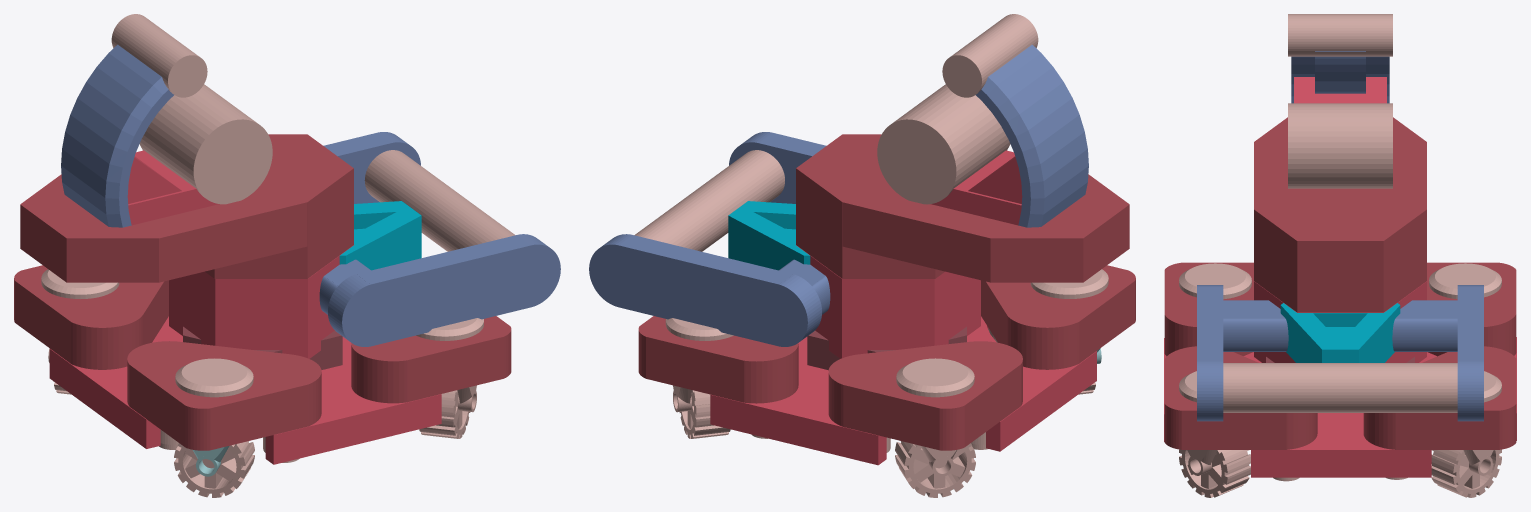
File: bot-swerve-red-shooter.glb
The picture shows the model from 3 angles, left to right: view 1: azimuth 30°, elevation 25°; view 2: azimuth 150°, elevation 25°; view 3: azimuth 270°, elevation 25°; orthographic projection. The views are drawn at different scales.
Parts seen in each view (by area): view 1: Mesh_Mesh_head_geo.001_lambert2SG.001; view 2: Mesh_Mesh_head_geo.001_lambert2SG.001; view 3: Mesh_Mesh_head_geo.001_lambert2SG.001.
Part boxes in pixels (left/top/right/bottom): Mesh_Mesh_head_geo.001_lambert2SG.001: left=14, top=14, right=560, bottom=497; Mesh_Mesh_head_geo.001_lambert2SG.001: left=589, top=14, right=1135, bottom=497; Mesh_Mesh_head_geo.001_lambert2SG.001: left=1164, top=14, right=1516, bottom=497.
Bounding box in the file's own units: 0.0312 × 0.0273 × 0.0232.
